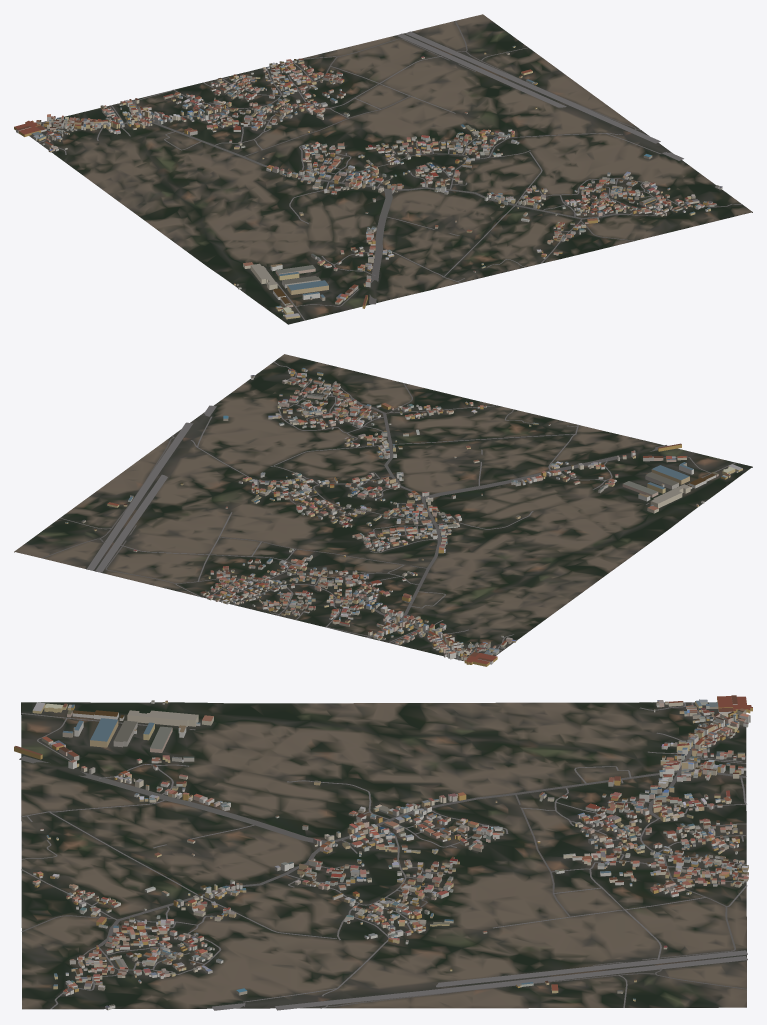
3 renders of one model, top to bottom at view 1: azimuth 30°, elevation 25°; view 2: azimuth 150°, elevation 25°; view 3: azimuth 270°, elevation 25°, orthographic. The views are drawn at different scales.
Visible parts, largest first — view 1: ground, buildings, roads; view 2: ground, buildings, roads; view 3: ground, buildings, roads.
Boxes of the visible parts, x1,y1,x2,y2 form: ground: (29, 14, 752, 324); buildings: (14, 45, 722, 319); roads: (38, 20, 742, 320); ground: (14, 354, 752, 661); buildings: (65, 368, 742, 666); roads: (42, 361, 735, 660); ground: (21, 702, 746, 1009); buildings: (14, 695, 752, 1010); roads: (19, 702, 747, 1010).
Size of the model in its own units: 1425 by 26.27 by 1429.
